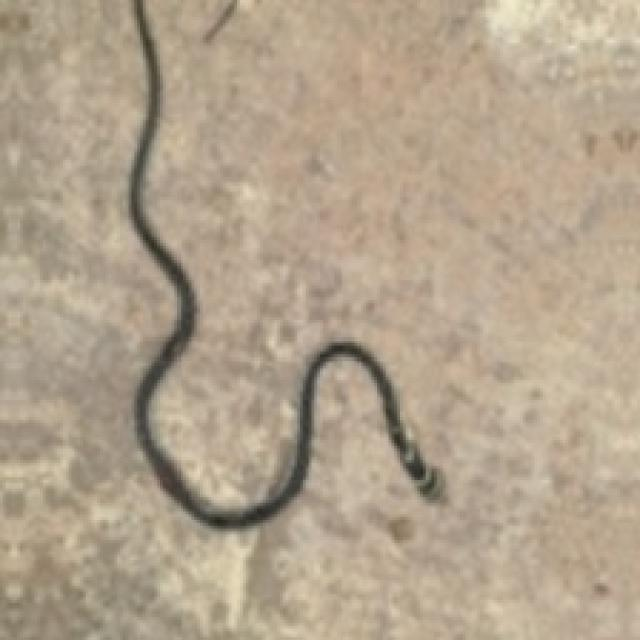king cobra: (129, 0, 440, 526)
